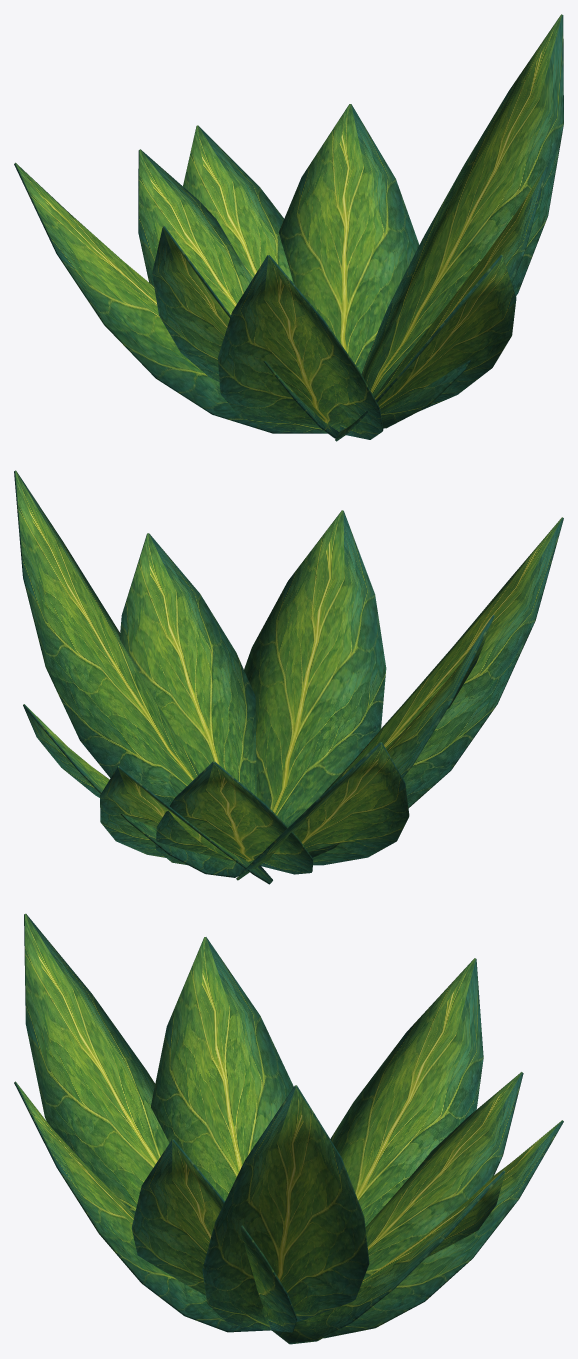
Rendered from groundcover-rosette.glb.
3 views of the same model, one above another, from view 1: azimuth 30°, elevation 25°; view 2: azimuth 150°, elevation 25°; view 3: azimuth 270°, elevation 25° (orthographic). The views are drawn at different scales.
Parts seen in each view (by area): view 1: groundcover-rosette; view 2: groundcover-rosette; view 3: groundcover-rosette.
Part boxes in pixels (x1=…): groundcover-rosette: x1=14, y1=14, x2=563, y2=441; groundcover-rosette: x1=14, y1=470, x2=563, y2=884; groundcover-rosette: x1=14, y1=913, x2=563, y2=1344.
Size of the model in its own units: 0.629 by 0.4595 by 0.6314.
Materials: 1 (1 with a texture image).
